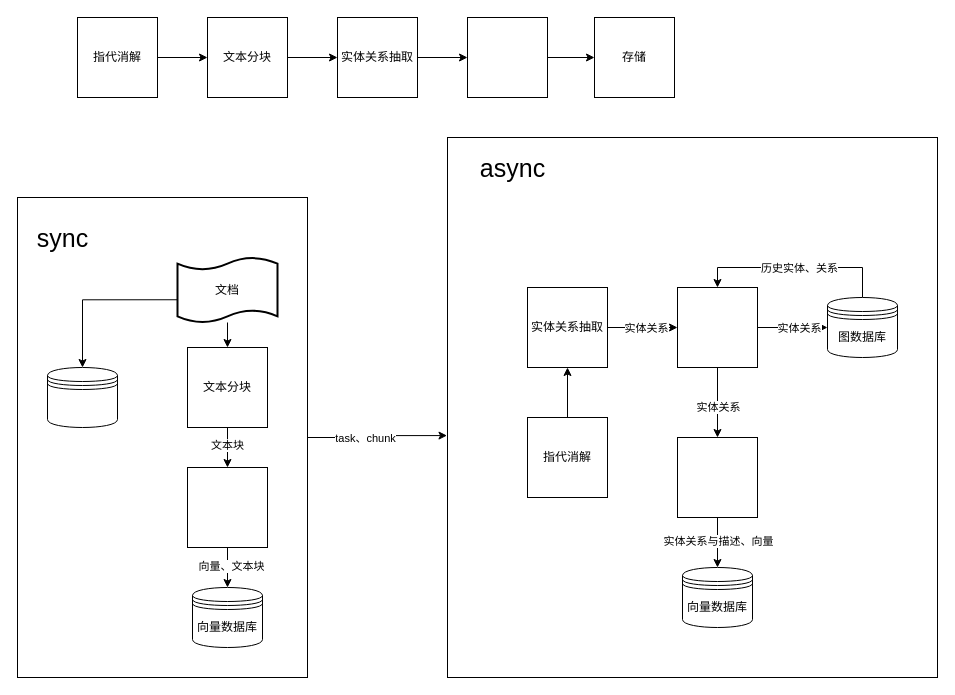
The diagram is 955 pixels wide and 695 high, and some of its shapes have lost their labels. The shapes that lost their labels are listed below. From the top down, each one's centre as x and y in pixels, then its label:
At pixel 507 57: "实体、关系、文本块向量化".
At pixel 717 327: "知识融合".
At pixel 82 397: "关系数据库".
At pixel 717 477: "实体、关系向量化".
At pixel 227 507: "向量化".
